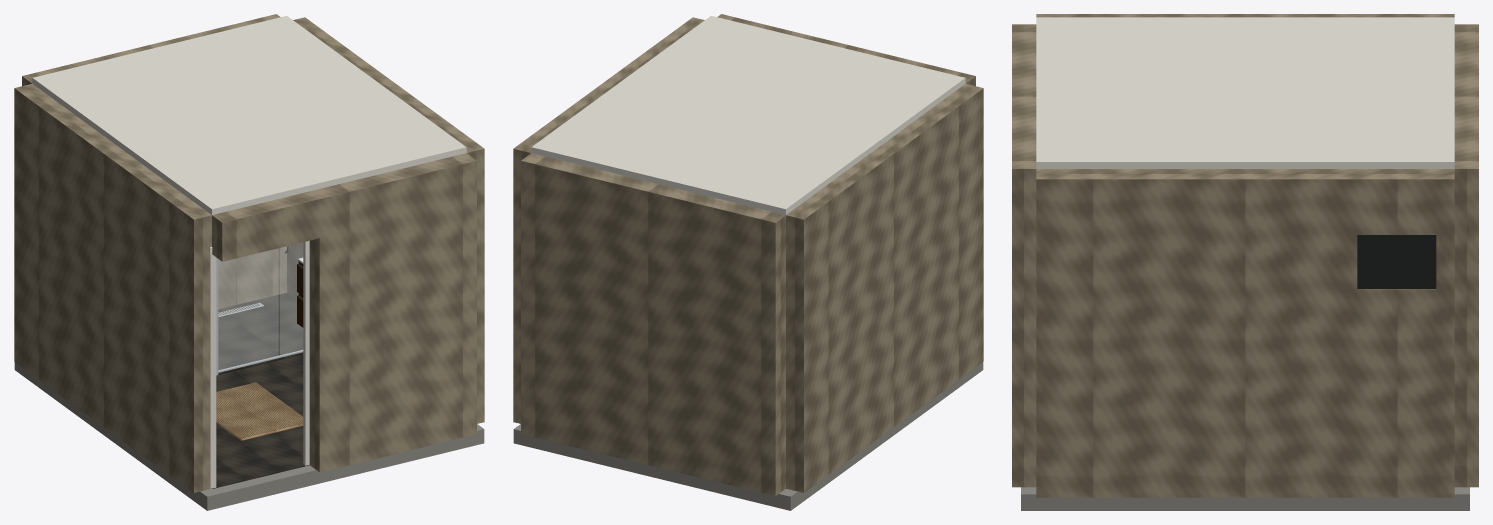
Rendered from 2_Planlanan_banyo.glb.
The picture shows the model from 3 angles, left to right: view 1: azimuth 30°, elevation 25°; view 2: azimuth 150°, elevation 25°; view 3: azimuth 270°, elevation 25°; orthographic projection. The views are drawn at different scales.
Visible parts, largest first — view 1: Sol duvar, Ön duvar | sunum için gizli, Tavan | plan görünümünde gizlenir, Kabin ön sabit cam, Zemin taşıyıcı, Sağ duvar / gerçek pencere boşluğu, Duş eğimli zemin sınırı 120x100, Arka duvar / gerçek niş boşlukları, Dokulu banyo paspası, Kabin menteşeli kapı, Zemin seramik / derz 2mm, Zemin seramik / derz 2mm.012 (+3 smaller); view 2: Arka duvar / gerçek niş boşlukları, Sol duvar, Tavan | plan görünümünde gizlenir, Zemin taşıyıcı, Sağ duvar / gerçek pencere boşluğu, Ön duvar | sunum için gizli; view 3: Sağ duvar / gerçek pencere boşluğu, Tavan | plan görünümünde gizlenir, Arka duvar / gerçek niş boşlukları, Ön duvar | sunum için gizli, Zemin taşıyıcı, Havalandırma karanlık iç boşluğu, Sol duvar.
Boxes of the visible parts, bbox=[...] form: Sol duvar: bbox=[14, 83, 211, 492]; Ön duvar | sunum için gizli: bbox=[212, 153, 476, 472]; Tavan | plan görünümünde gizlenir: bbox=[32, 16, 466, 214]; Kabin ön sabit cam: bbox=[218, 248, 278, 370]; Zemin taşıyıcı: bbox=[14, 362, 484, 510]; Sağ duvar / gerçek pencere boşluğu: bbox=[287, 17, 484, 423]; Duş eğimli zemin sınırı 120x100: bbox=[218, 293, 303, 374]; Arka duvar / gerçek niş boşlukları: bbox=[22, 14, 286, 308]; Dokulu banyo paspası: bbox=[216, 382, 303, 440]; Kabin menteşeli kapı: bbox=[279, 242, 302, 355]; Zemin seramik / derz 2mm: bbox=[212, 443, 279, 488]; Zemin seramik / derz 2mm.012: bbox=[233, 355, 303, 396]; Arka duvar / gerçek niş boşlukları: bbox=[521, 153, 785, 496]; Sol duvar: bbox=[786, 83, 983, 492]; Tavan | plan görünümünde gizlenir: bbox=[531, 16, 965, 214]; Zemin taşıyıcı: bbox=[513, 362, 983, 510]; Sağ duvar / gerçek pencere boşluğu: bbox=[513, 17, 704, 423]; Ön duvar | sunum için gizli: bbox=[717, 14, 975, 86]; Sağ duvar / gerçek pencere boşluğu: bbox=[1036, 169, 1454, 497]; Tavan | plan görünümünde gizlenir: bbox=[1036, 17, 1454, 168]; Arka duvar / gerçek niş boşlukları: bbox=[1454, 24, 1478, 487]; Ön duvar | sunum için gizli: bbox=[1012, 24, 1036, 487]; Zemin taşıyıcı: bbox=[1021, 487, 1469, 510]; Havalandırma karanlık iç boşluğu: bbox=[1357, 235, 1436, 289]; Sol duvar: bbox=[1036, 14, 1454, 17].
Bounding box in the file's own units: 2.57 × 2.49 × 3.07.
Materials: 15 (4 with a texture image).
